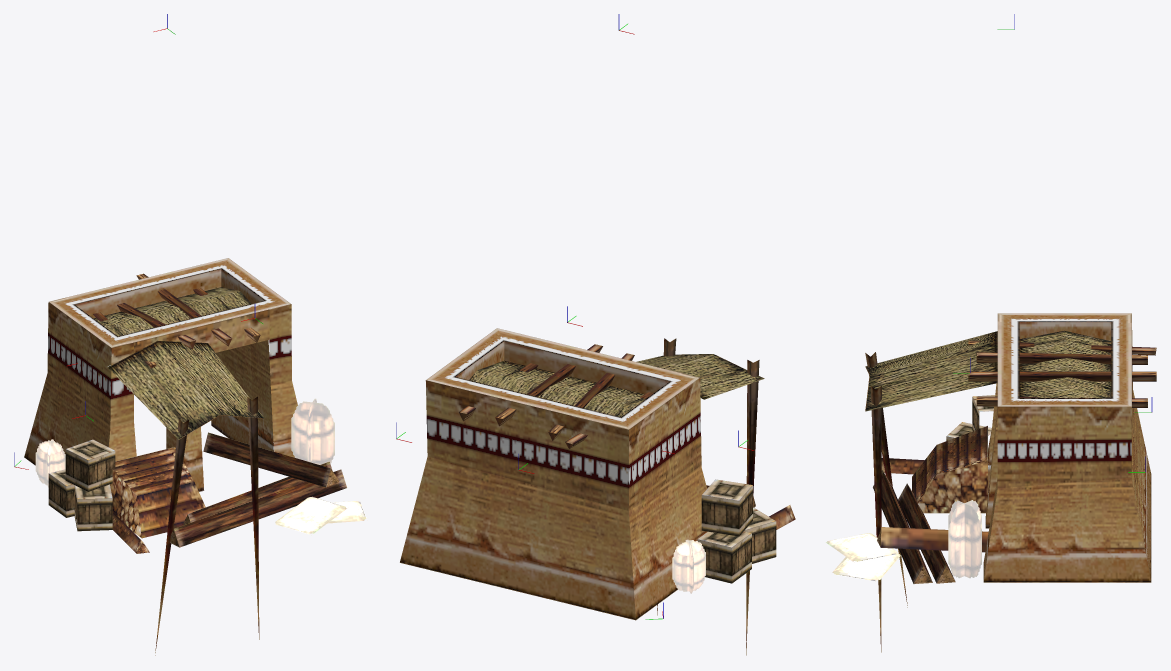
Rendered from egyptian-lumber-camp.glb.
3 renders of one model, left to right at view 1: azimuth 30°, elevation 25°; view 2: azimuth 150°, elevation 25°; view 3: azimuth 270°, elevation 25°, orthographic. The views are drawn at different scales.
Parts seen in each view (by area): view 1: building e lumbercamp age1Model; view 2: building e lumbercamp age1Model; view 3: building e lumbercamp age1Model.
Boxes of the visible parts, <box> form: building e lumbercamp age1Model: <box>24,258,367,655</box>; building e lumbercamp age1Model: <box>400,328,795,655</box>; building e lumbercamp age1Model: <box>826,313,1156,652</box>.
Bounding box in the file's own units: 4.48 × 10.08 × 4.83.
Materials: 7 (6 with a texture image).
